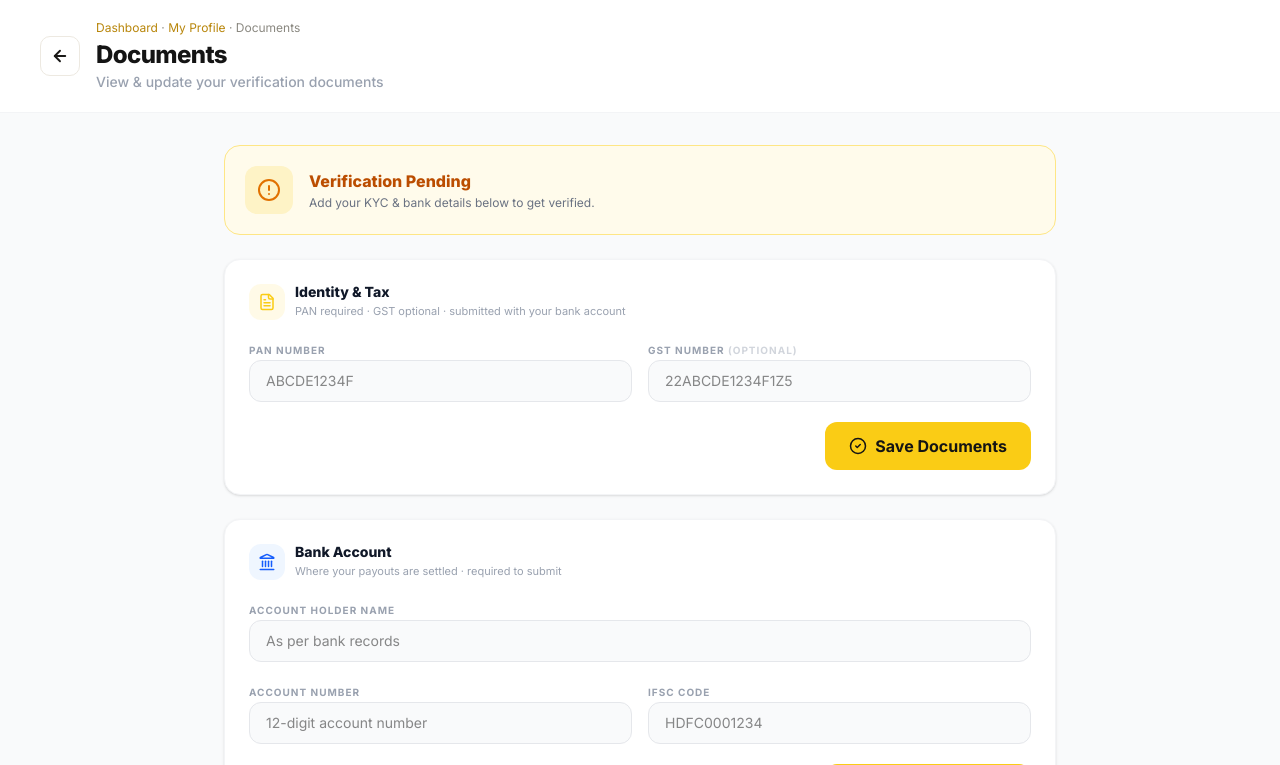
Test: Documents — bank details › caps the account number at 12 digits
The width and height of the screenshot is (1280, 765).
Type "1234567890123456" into the field with placeholder "12-digit account number" at [440, 723], box [249,702,632,744]
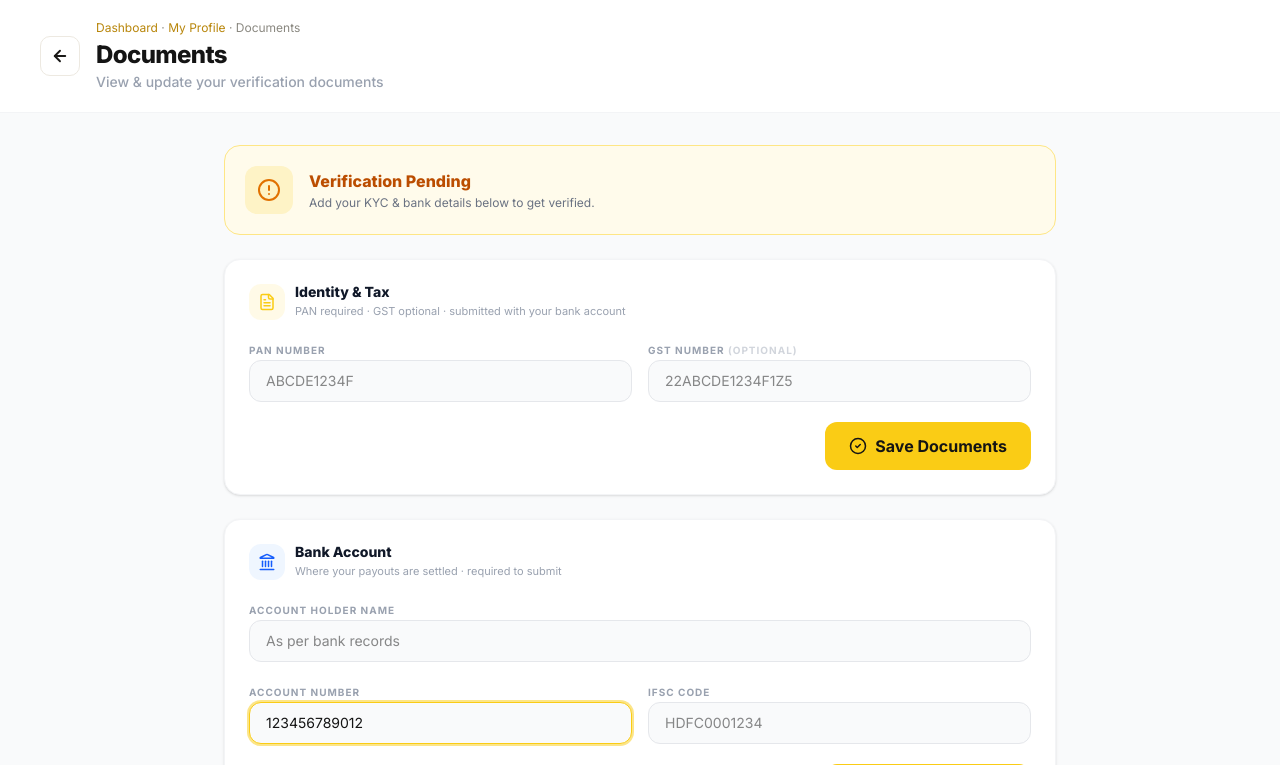
Check: the field with placeholder "12-digit account number" holds "123456789012", box [249,702,632,744]
